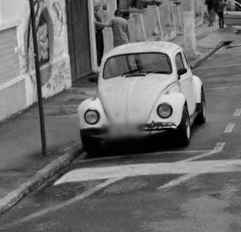car: (75, 39, 209, 151)
